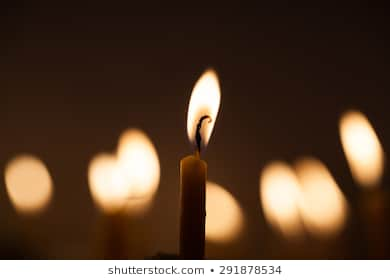Fire: (183, 62, 225, 151)
